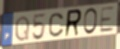5: (32, 12, 48, 41)
C: (48, 13, 65, 39)
E: (99, 5, 116, 34)
O: (83, 8, 98, 36)
Q: (14, 15, 30, 43)
R: (63, 8, 83, 39)
